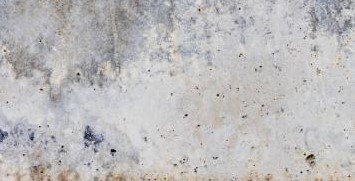Spalling: (1, 1, 355, 181)
